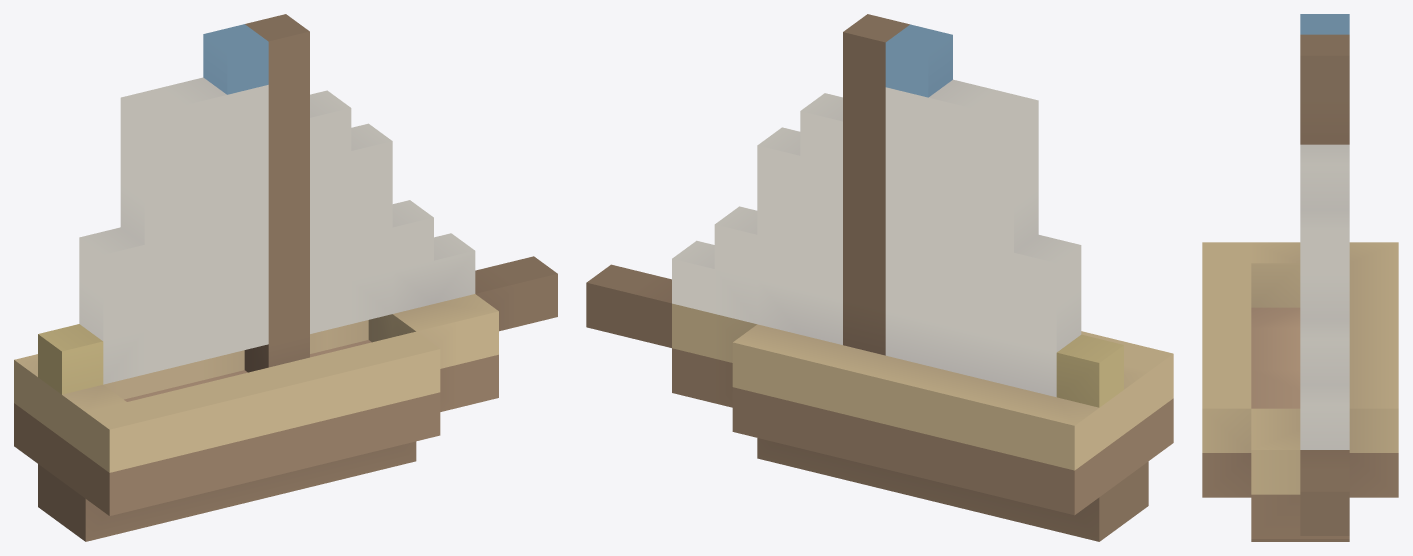
Rendered from sloop.lite.glb.
3 renders of one model, left to right at view 1: azimuth 30°, elevation 25°; view 2: azimuth 150°, elevation 25°; view 3: azimuth 270°, elevation 25°, orthographic. The views are drawn at different scales.
Visible parts, largest first — view 1: sloop; view 2: sloop; view 3: sloop.
Part boxes in pixels (left/top/right/bottom): sloop: left=14, top=14, right=557, bottom=541; sloop: left=586, top=14, right=1173, bottom=541; sloop: left=1202, top=14, right=1398, bottom=541.
Size of the model in its own units: 2.4 by 2 by 0.8.
